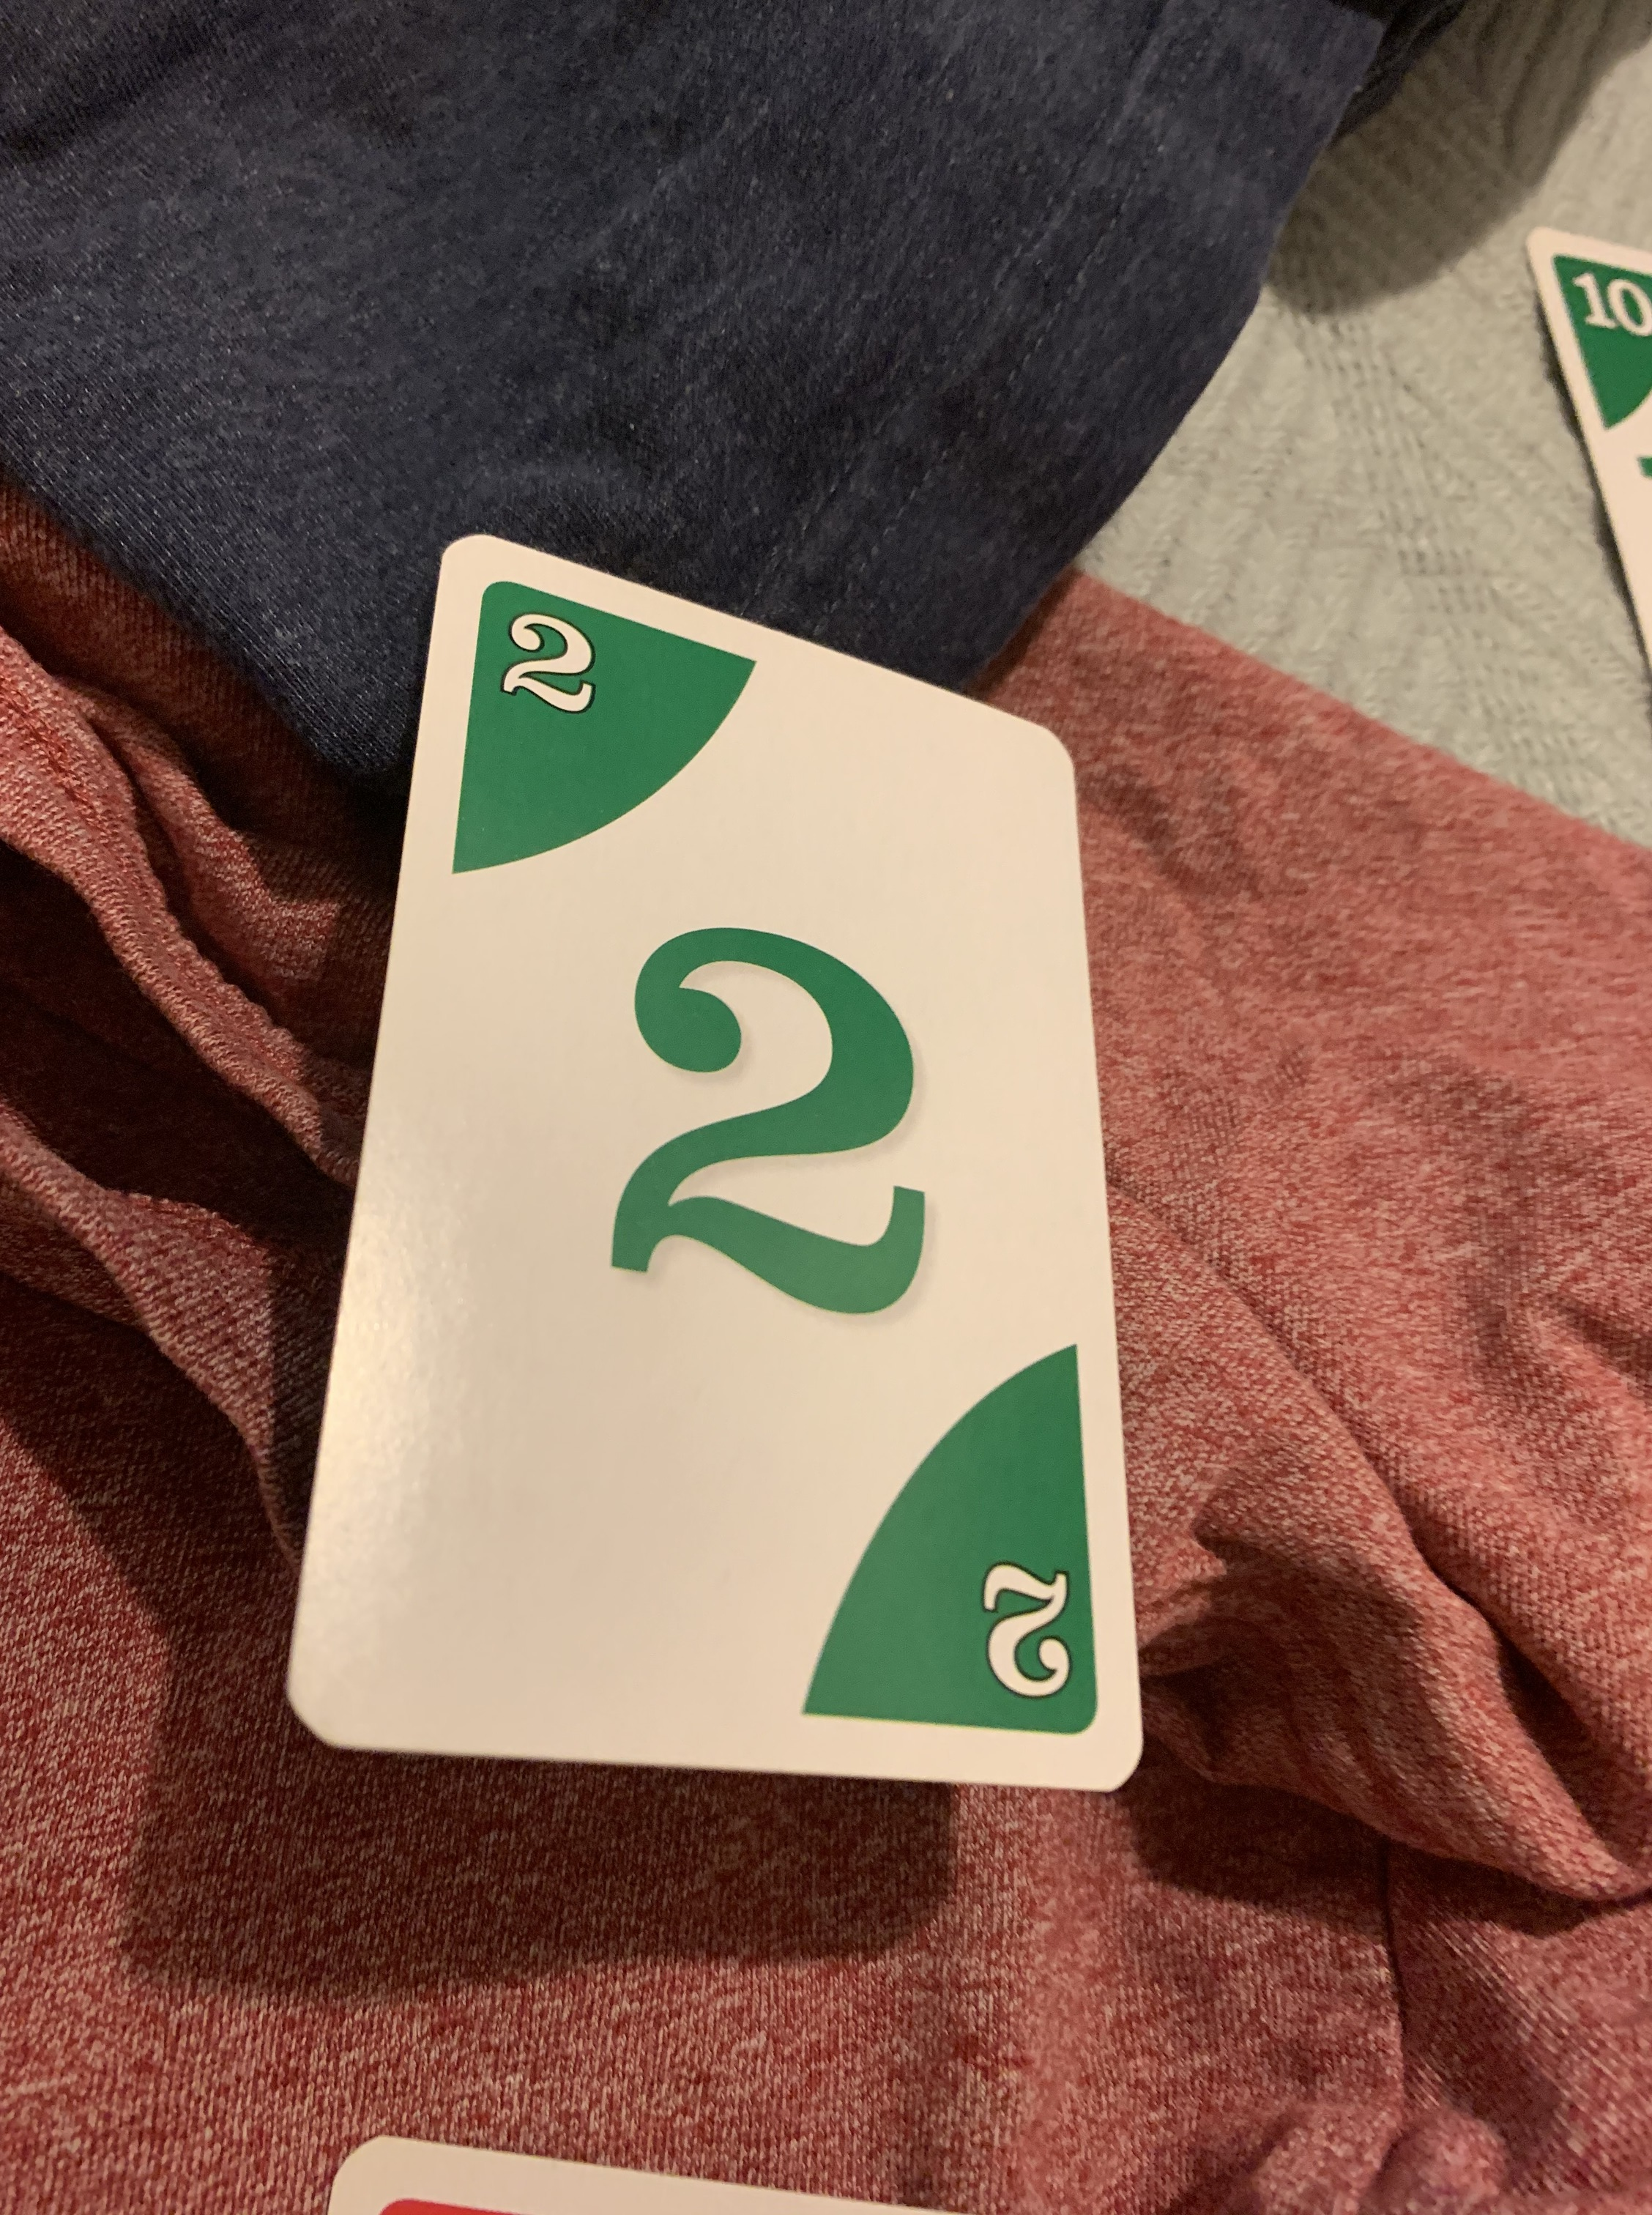two: (248, 505, 1168, 1816)
